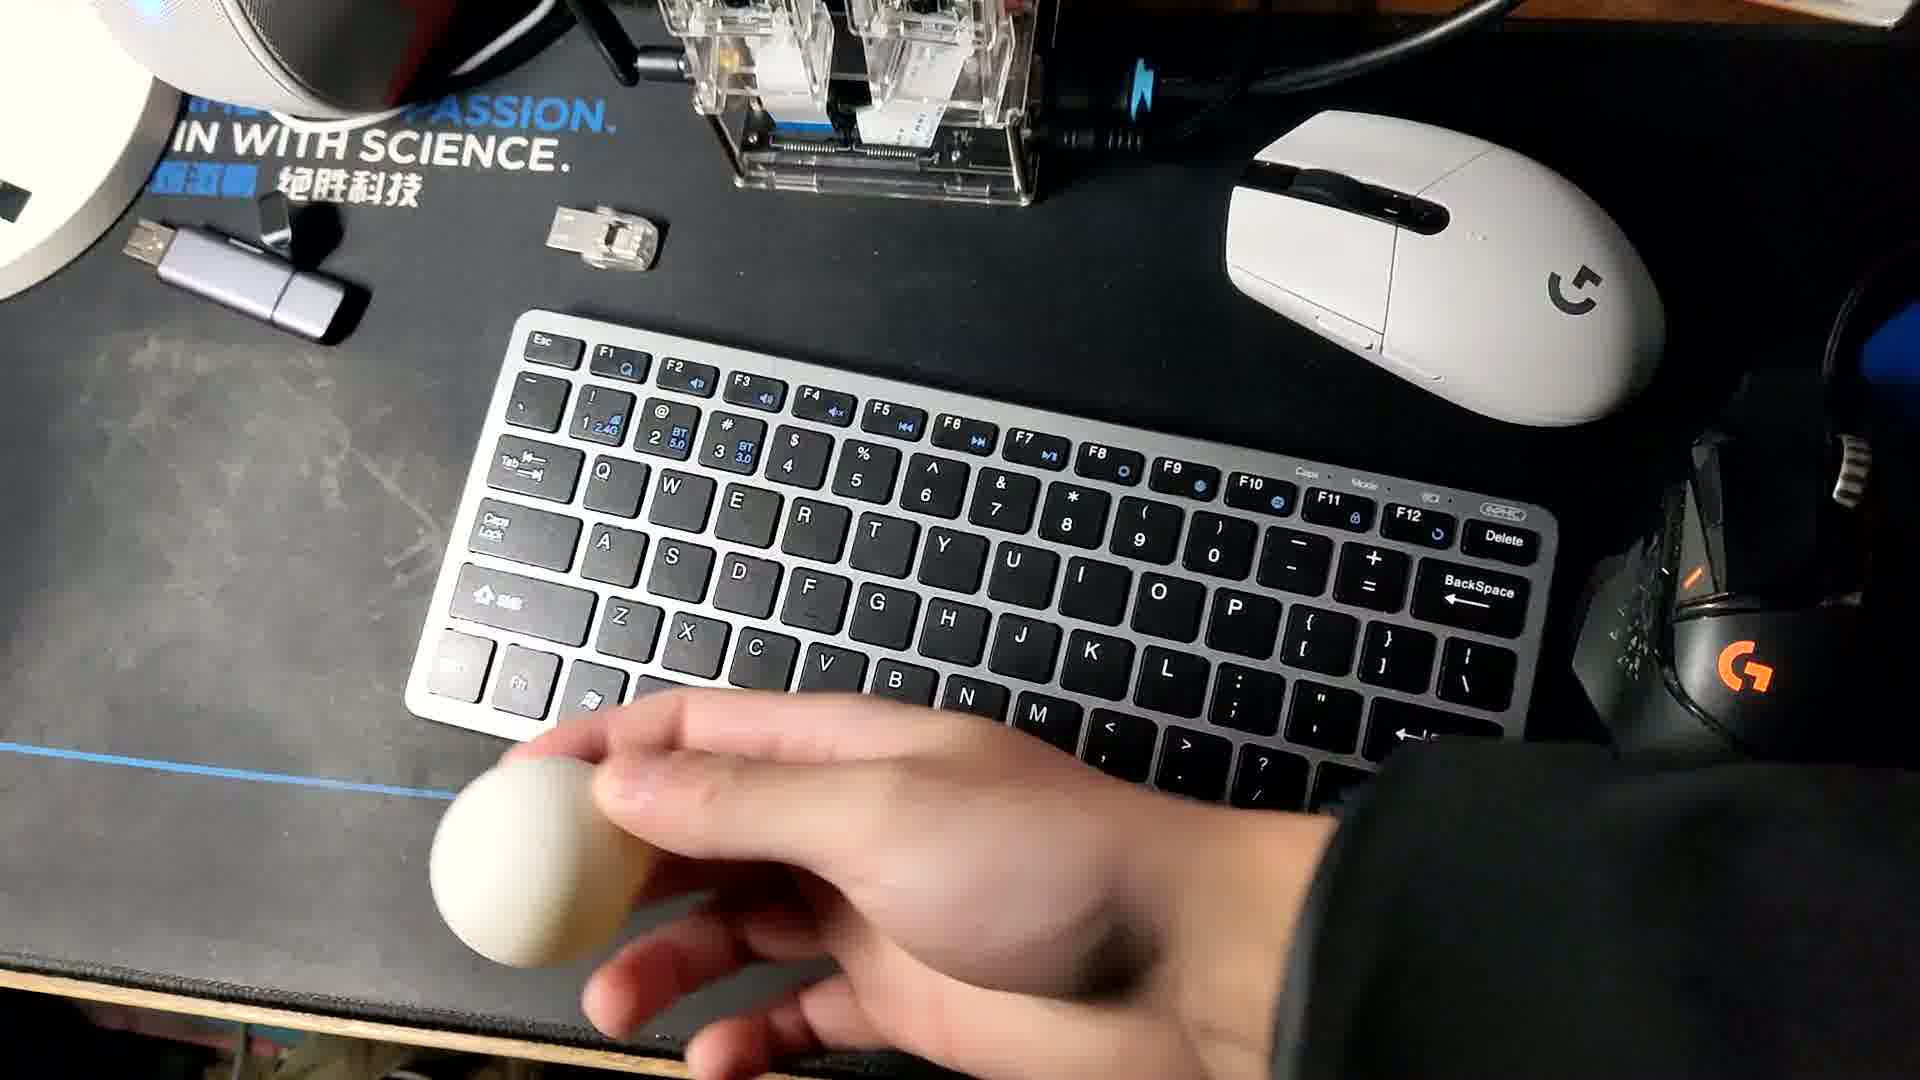Ball: (426, 752, 644, 964)
